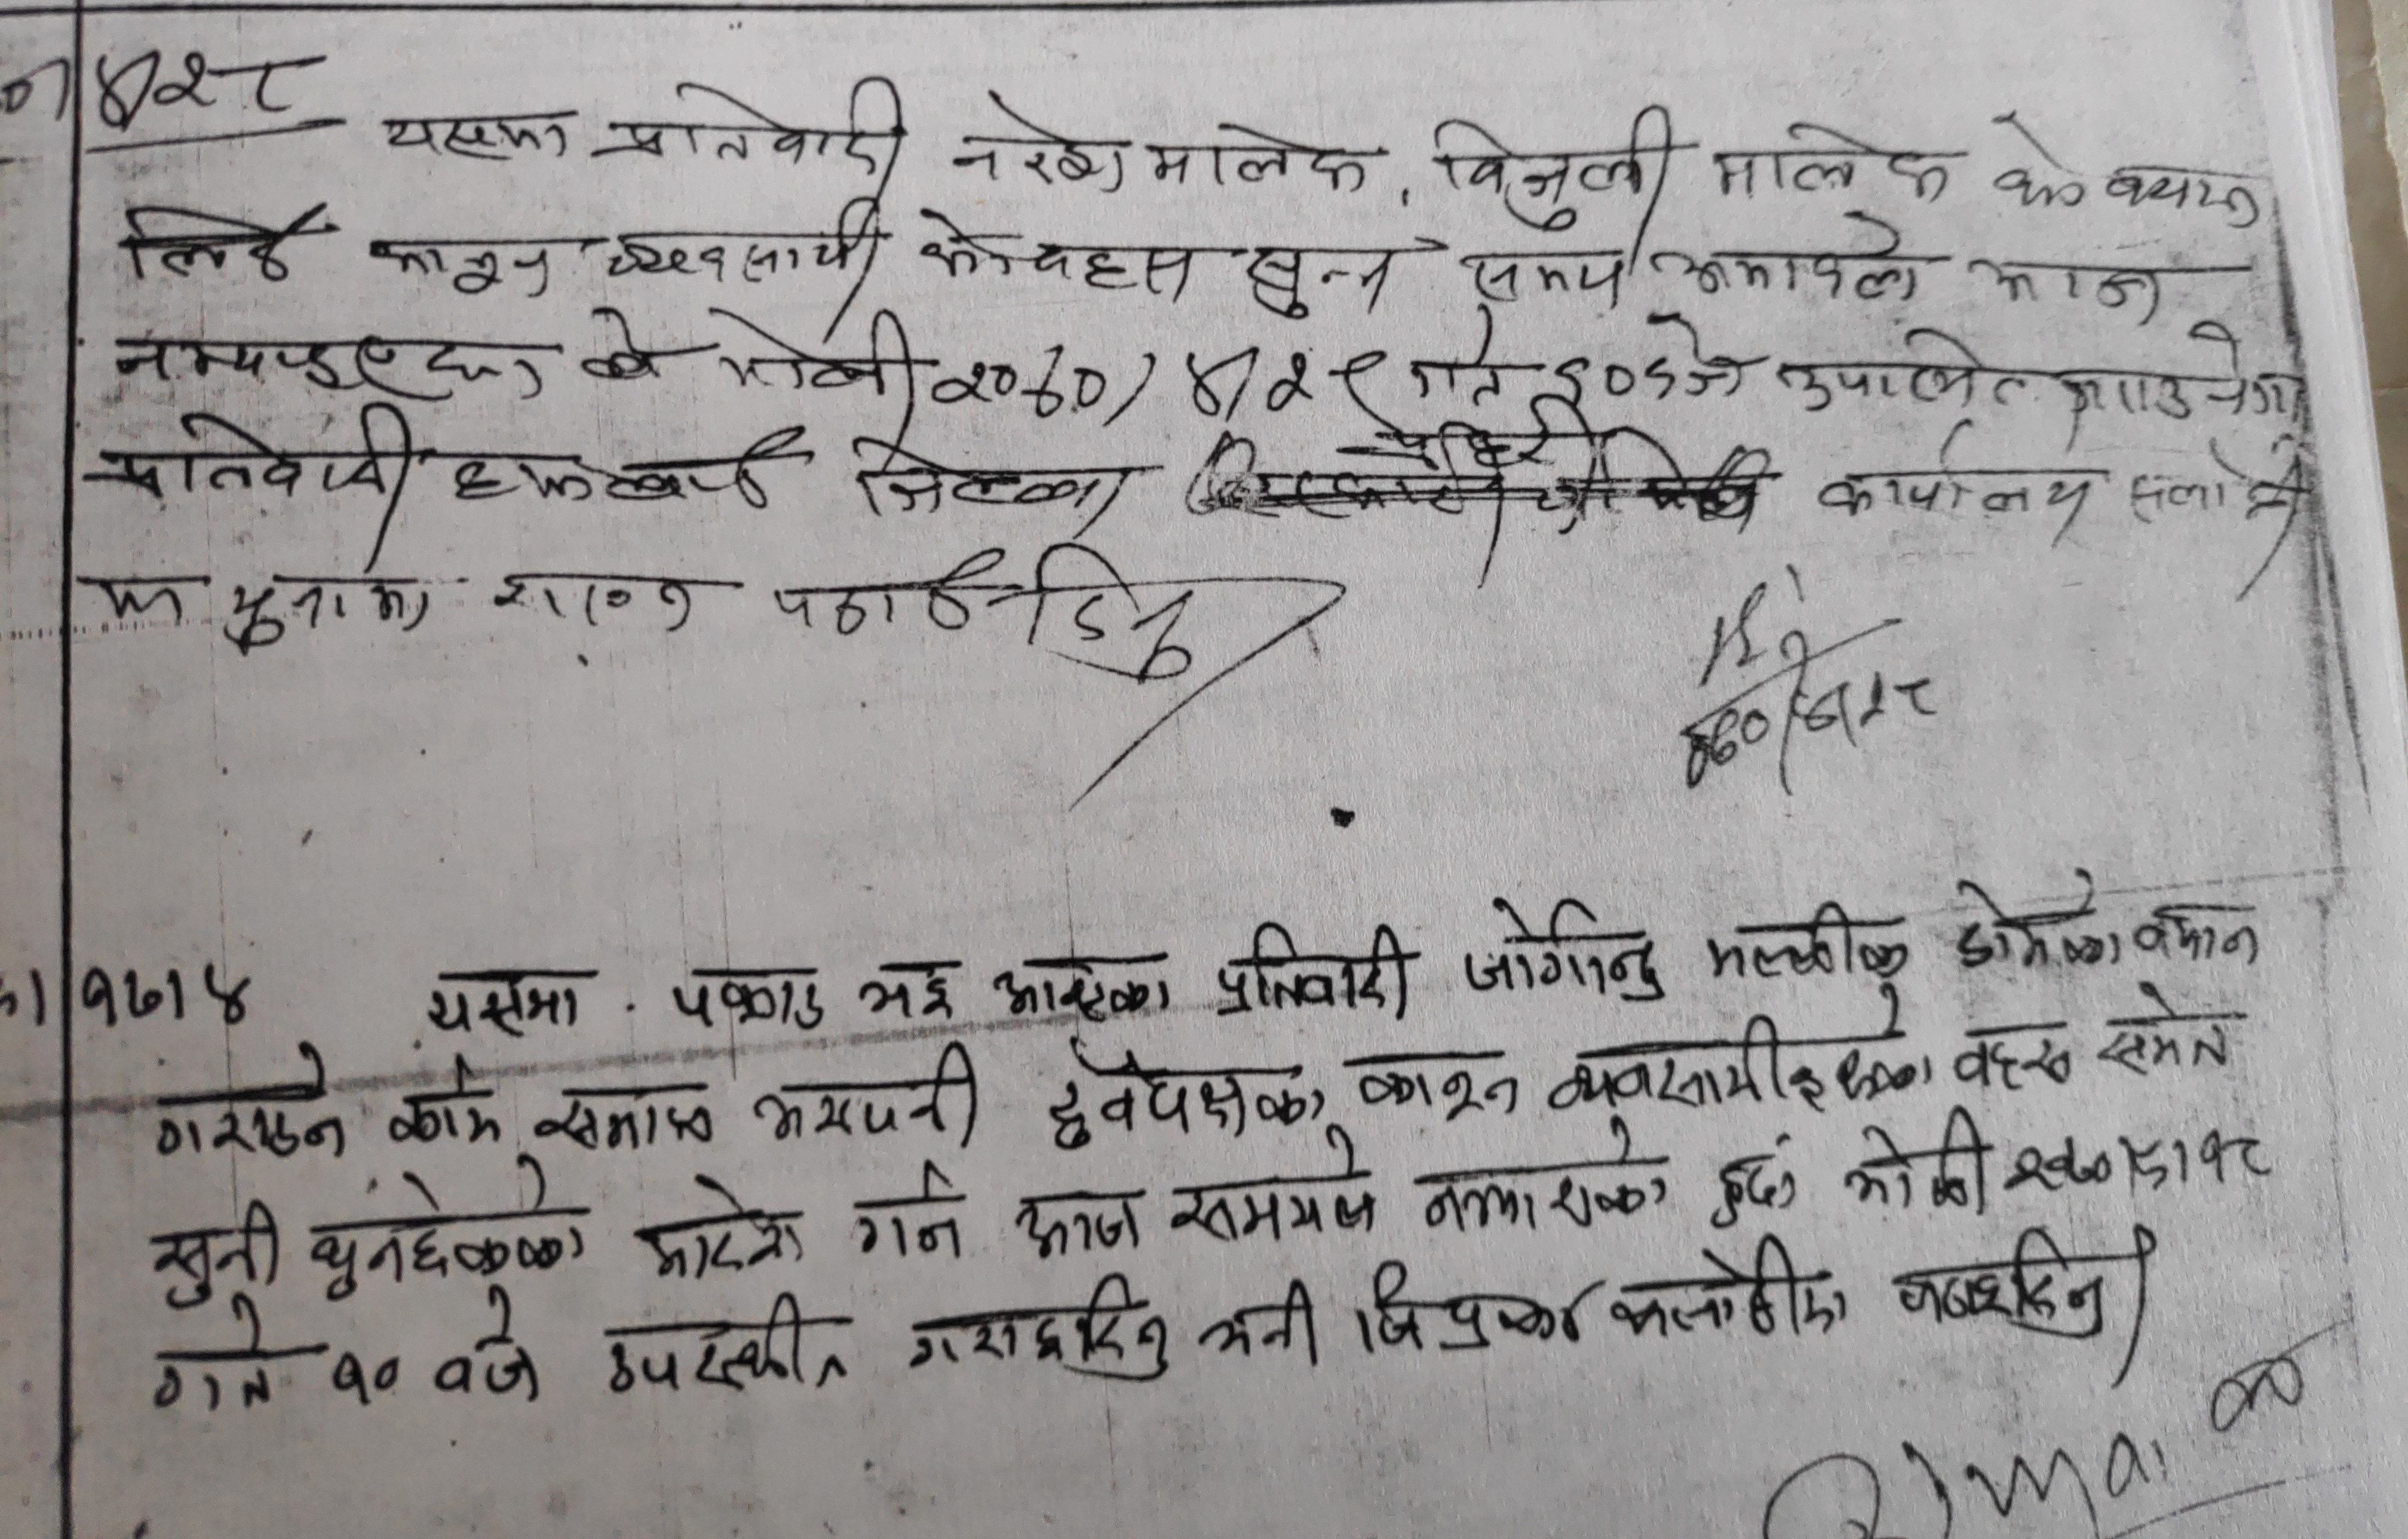text: (756, 539, 1209, 697), (1539, 988, 1943, 1116), (77, 400, 418, 523), (305, 1167, 586, 1302), (112, 316, 551, 400), (897, 1267, 1179, 1392), (1427, 100, 1685, 235), (1041, 1028, 1330, 1148), (584, 191, 888, 304), (595, 72, 907, 181), (844, 425, 1137, 537), (920, 198, 1208, 311), (1643, 204, 1936, 311), (595, 1288, 862, 1404), (1597, 1228, 1853, 1348), (1408, 1123, 1674, 1235), (1164, 1125, 1385, 1253), (1817, 430, 2092, 532), (744, 1035, 990, 1148), (693, 300, 925, 416), (1890, 1225, 2115, 1344), (139, 1039, 353, 1160), (1348, 1256, 1595, 1358), (1455, 891, 1669, 1007), (1776, 321, 2036, 416), (1708, 116, 1964, 211), (1215, 918, 1423, 1032), (939, 89, 1144, 202), (116, 193, 333, 297), (2008, 1118, 2283, 1195), (635, 1165, 804, 1290), (1943, 874, 2127, 984), (1141, 114, 1378, 198), (223, 565, 446, 653), (1699, 897, 1922, 984), (90, 46, 314, 132), (358, 225, 572, 312), (534, 1069, 727, 1165), (139, 1193, 288, 1316), (484, 560, 709, 639), (1834, 1111, 1997, 1218), (1966, 249, 2182, 328), (1392, 300, 1520, 425), (430, 1288, 555, 1411), (662, 963, 844, 1046), (839, 1155, 979, 1262), (928, 346, 1118, 425), (1241, 237, 1406, 326), (992, 946, 1171, 1028), (2092, 986, 2238, 1086), (149, 1313, 283, 1420), (414, 967, 604, 1037), (1262, 328, 1395, 426), (1353, 1048, 1520, 1125), (383, 102, 574, 168), (2103, 160, 2268, 235), (1462, 244, 1638, 314), (1199, 1274, 1322, 1374), (386, 1051, 504, 1151), (448, 440, 593, 516), (1006, 1188, 1151, 1263), (2048, 360, 2199, 432), (2132, 893, 2268, 972), (1953, 1014, 2080, 1093), (1553, 347, 1683, 419), (1708, 1141, 1802, 1230), (858, 951, 964, 1023), (325, 1346, 411, 1418), (1181, 335, 1246, 425)
